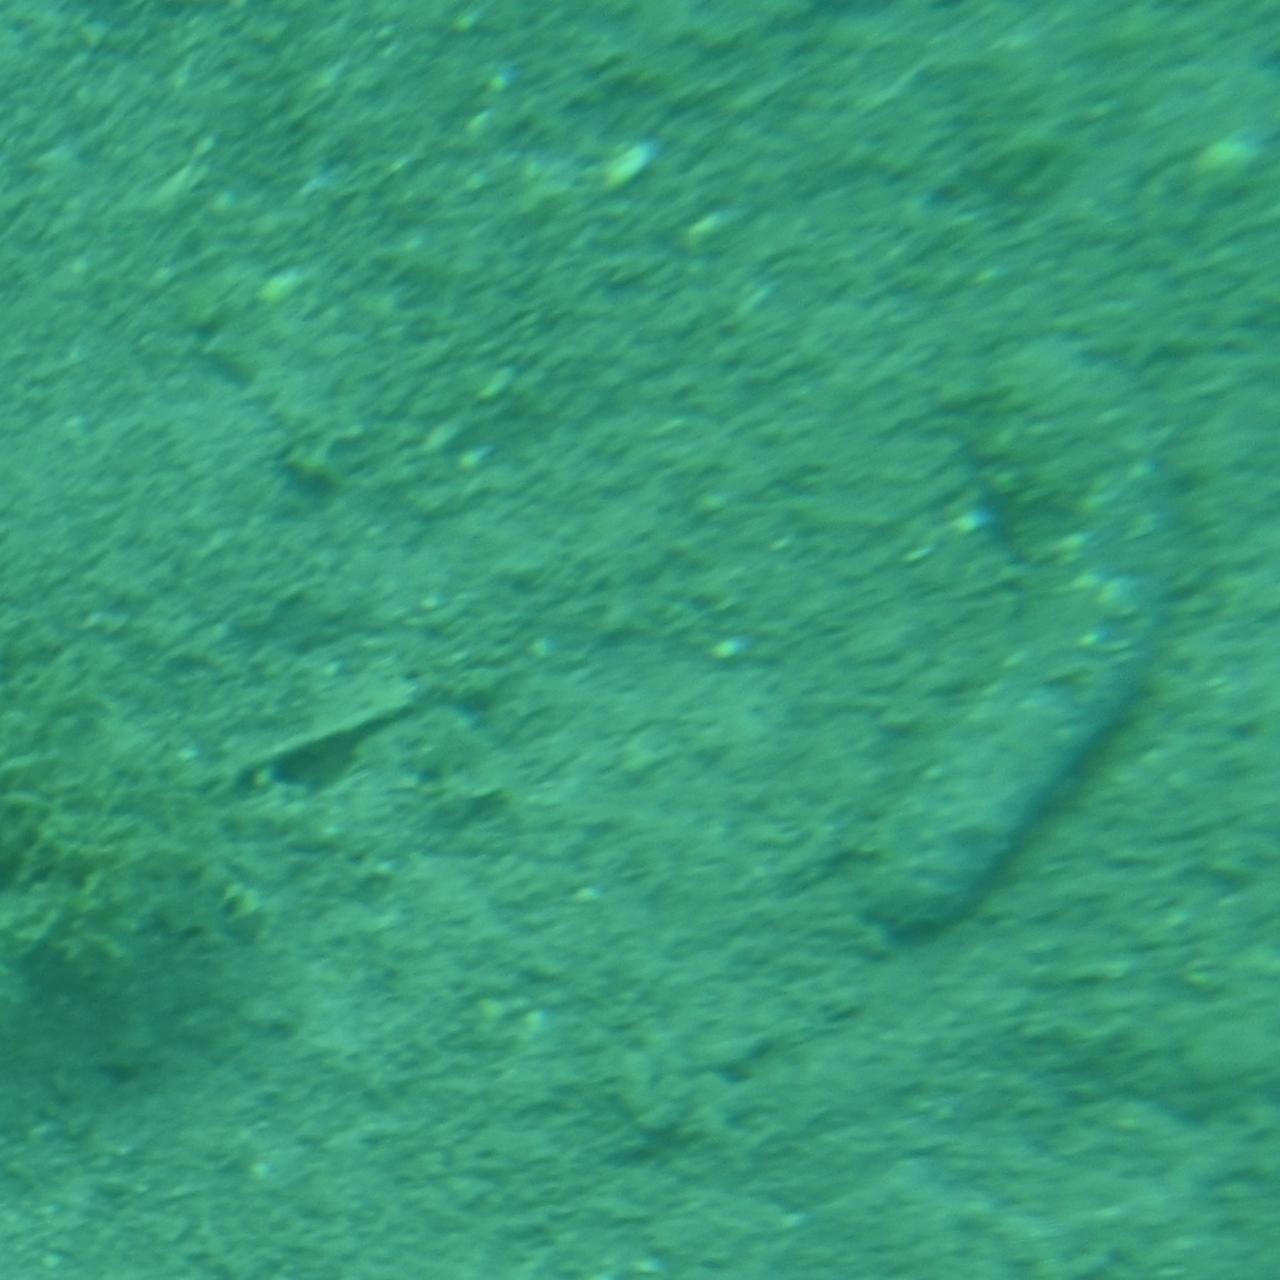Holothuria tubulosa: (843, 325, 1197, 955)
